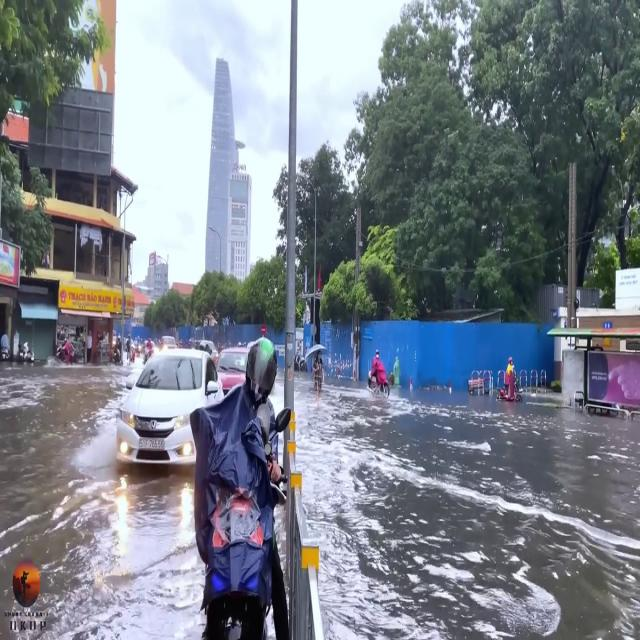bien_trang: (138, 438, 165, 450)
